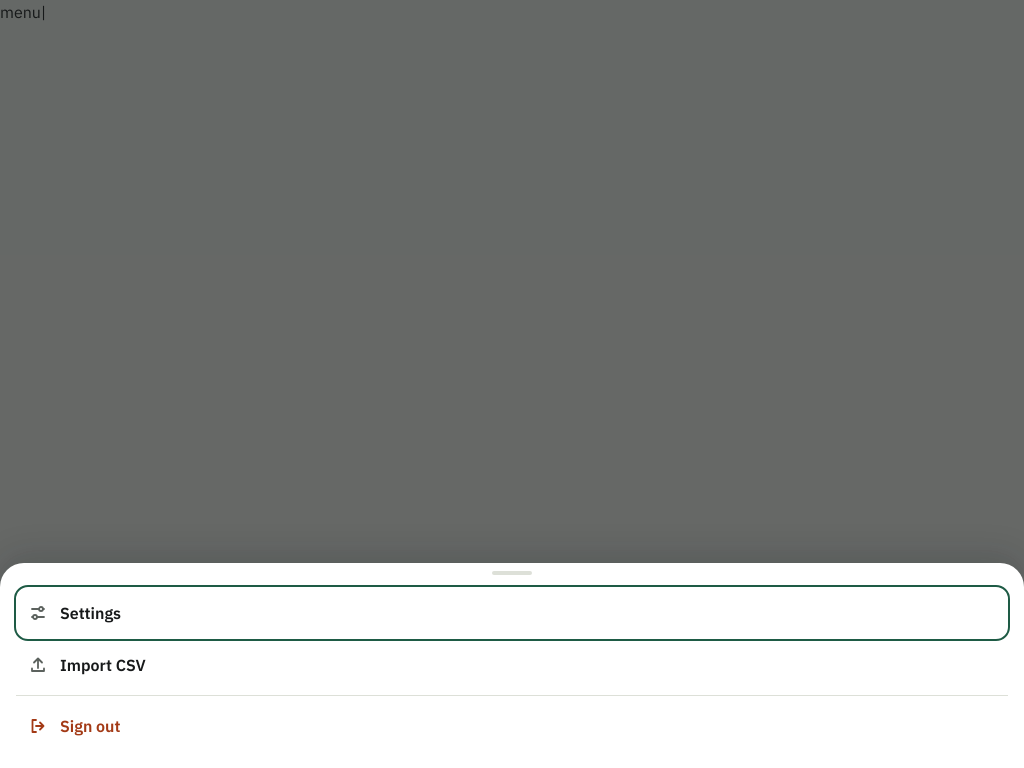
AccountMenu › opens Settings in place of the menu
Click the button "Settings" at x=91, y=613, box [16,587,1008,639]
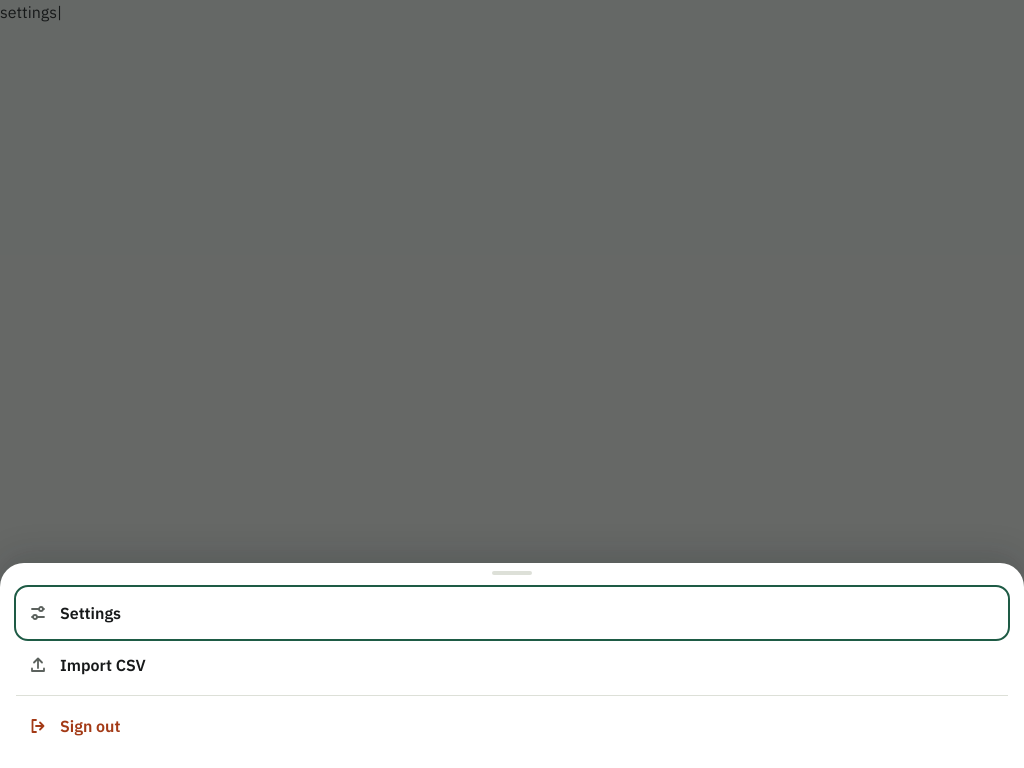
Expected: the text with test id "state" shows "settings", [0,2,57,22]
